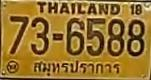3: (30, 16, 50, 56)
5: (86, 17, 105, 56)
6: (66, 17, 85, 56)
7: (9, 15, 29, 55)
8: (126, 18, 145, 57), (107, 18, 125, 57)
SPK: (30, 58, 120, 77)
